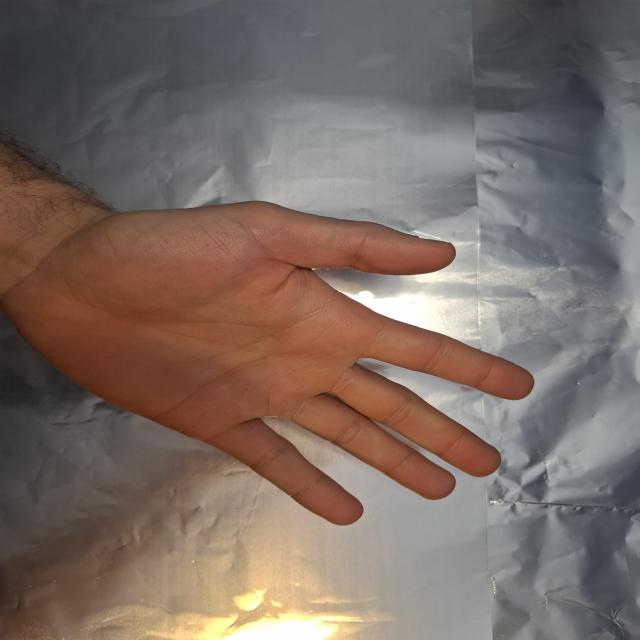glove_off: (9, 180, 536, 530)
